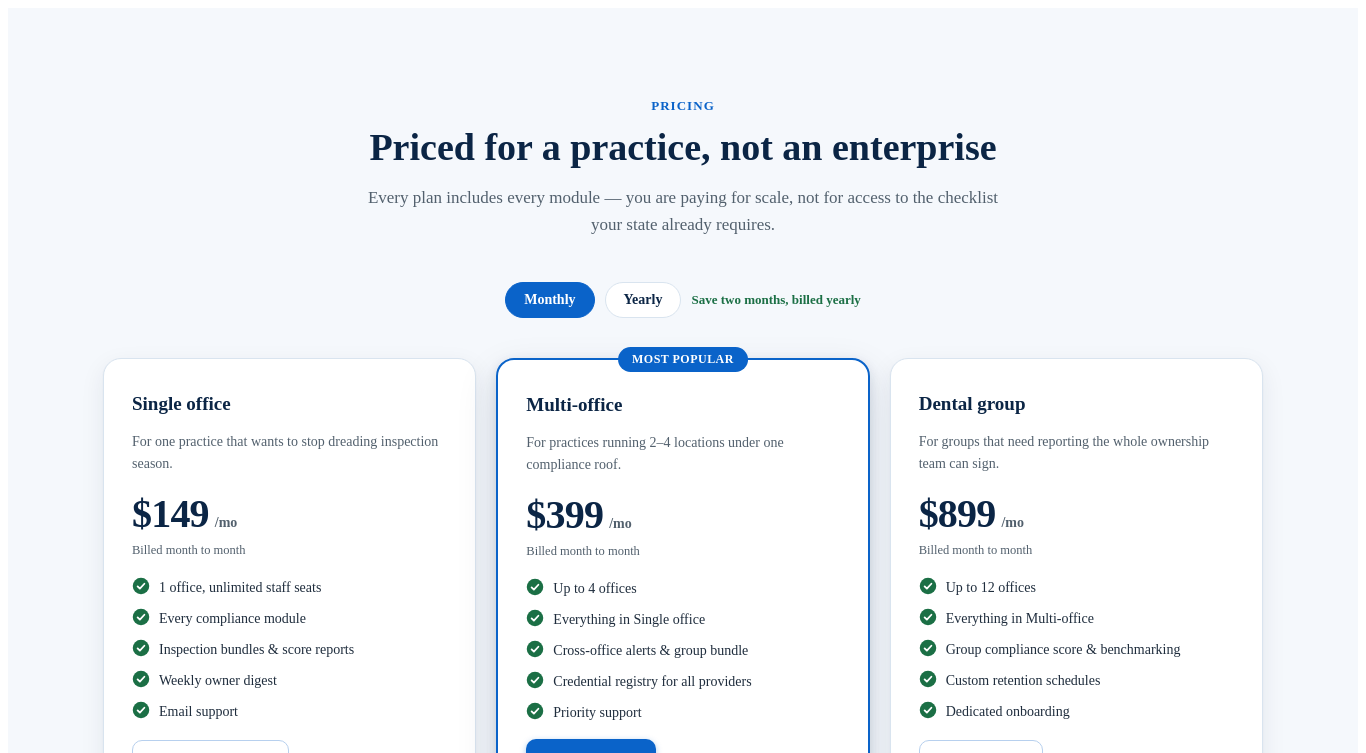
Test: Pricing › switches to yearly prices and back
The image size is (1366, 753).
Click the button "Yearly": x=643, y=300 [604, 282, 681, 318]
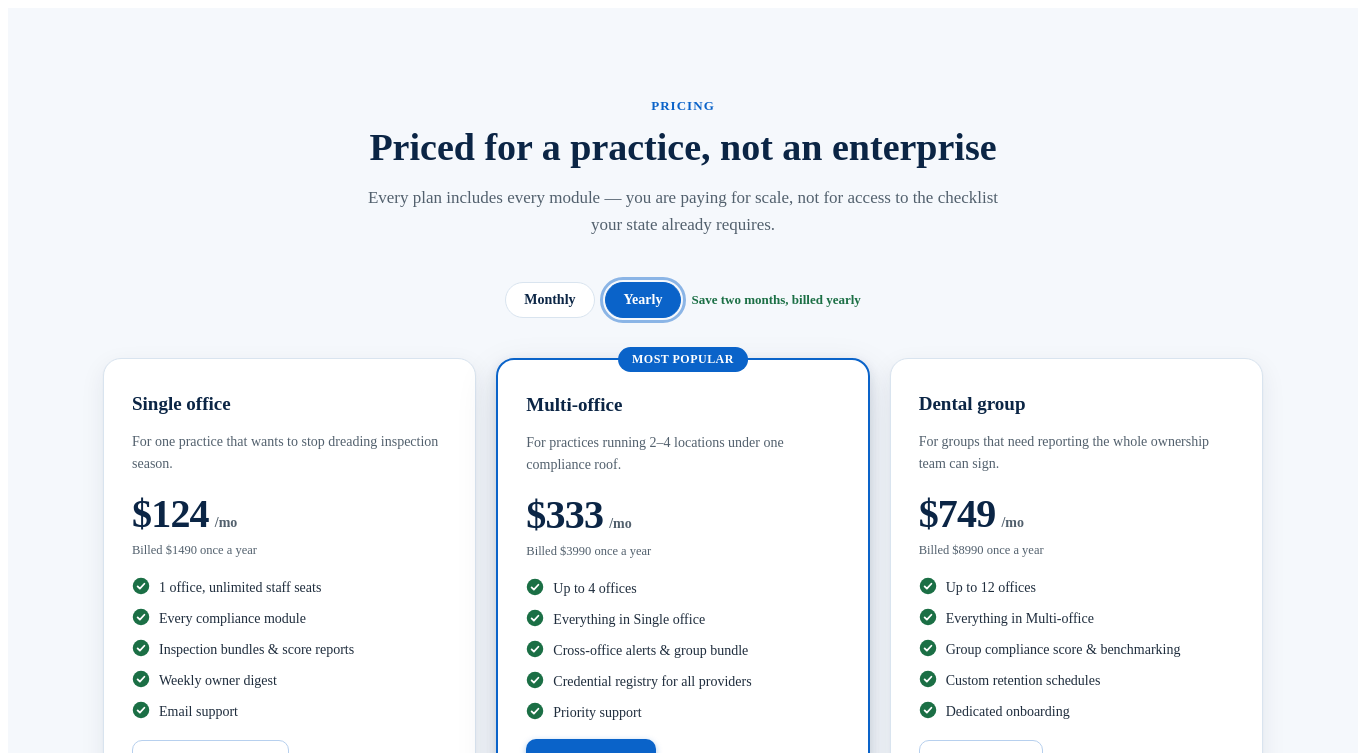
expect the text with test id "price-single-office" reads "$124": met, box [132, 491, 209, 536]
expect the text with test id "price-multi-office" reads "$333": met, box [526, 492, 603, 537]
expect the text with test id "price-dental-group" reads "$749": met, box [919, 491, 996, 536]
Click the button "Monthly": x=550, y=300 [505, 282, 594, 318]
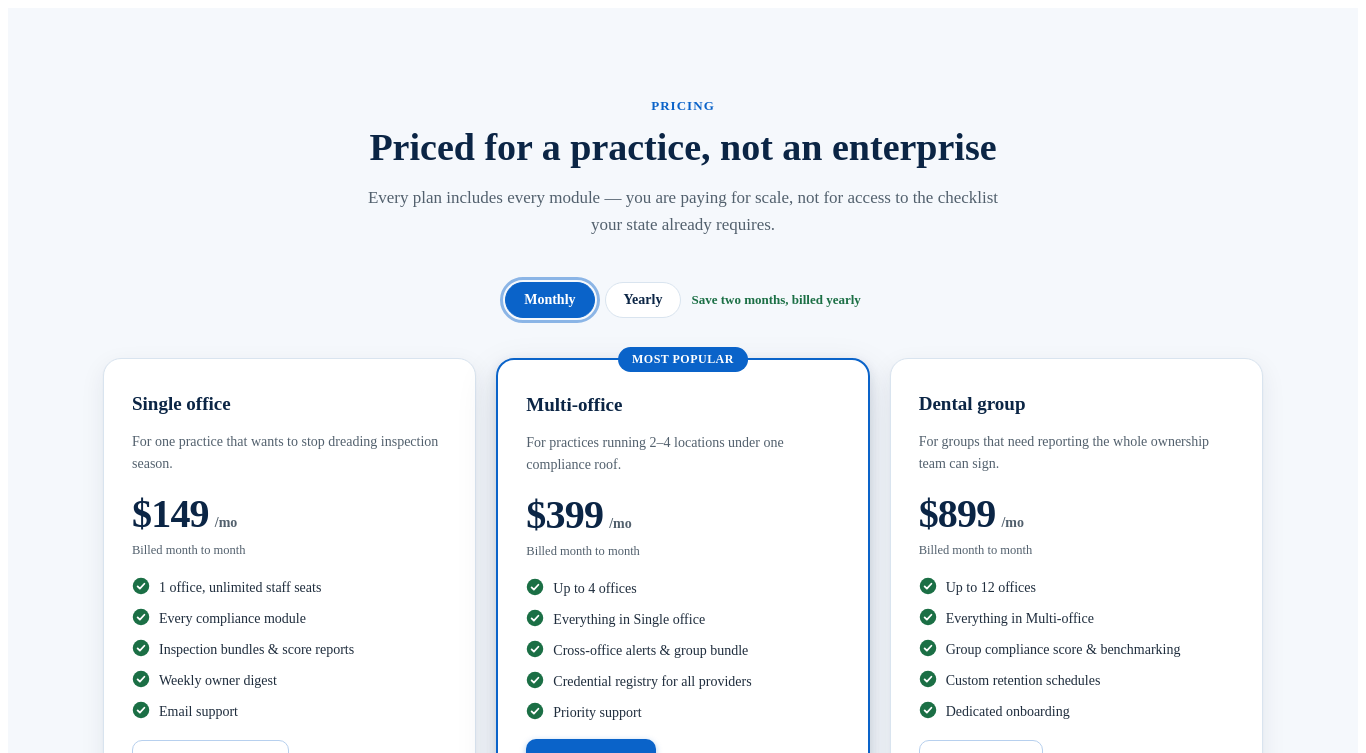
expect the text with test id "price-single-office" reads "$149": met, box [132, 491, 209, 536]
expect the text with test id "billed-single-office" reads "Billed month to month": met, box [132, 543, 246, 557]
